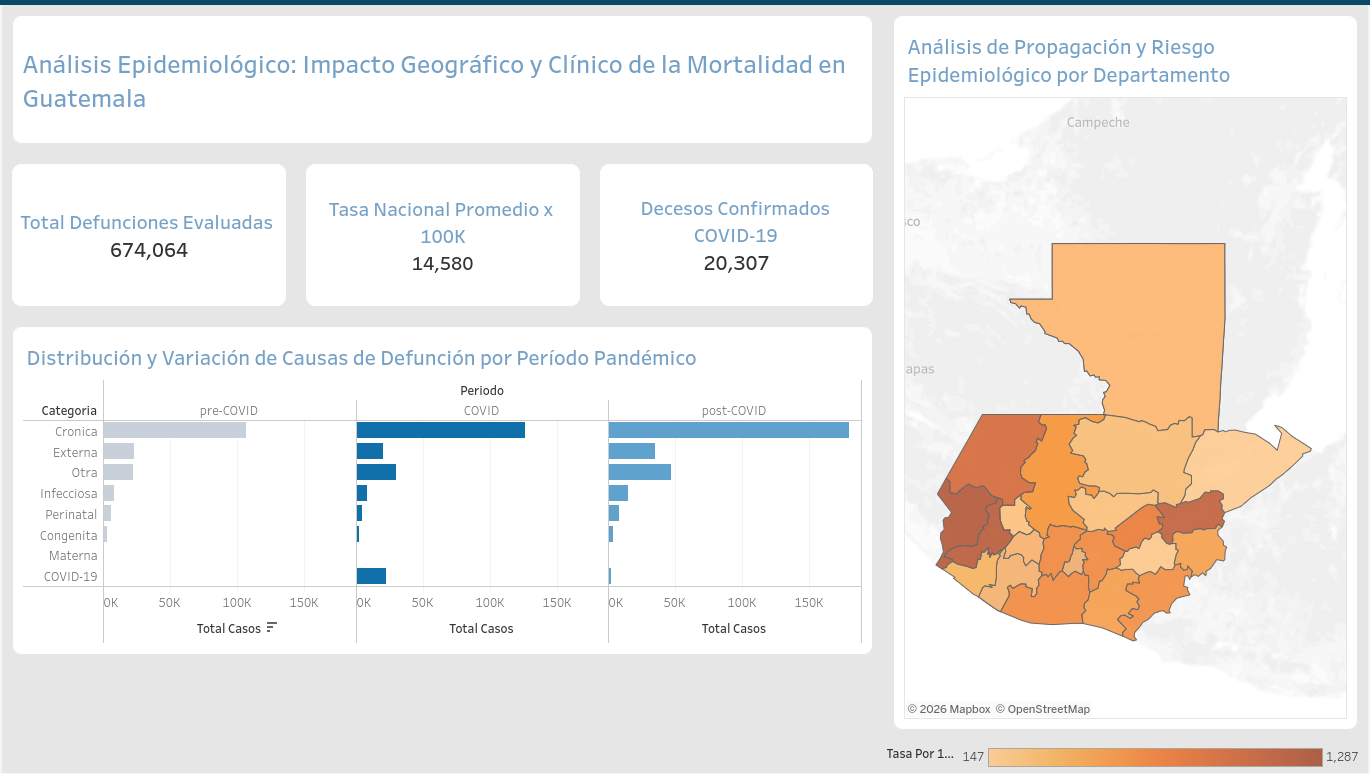

What the dashboard file says about the page in this screenshot:
{"tool":"tableau","page":{"name":"Dashboard Tableu","canvas":[1366,768],"ordinal":0},"visuals":[{"type":"text","box":[0,0,881,149]},{"type":"worksheet","title":"ACTO 3","mark":"Multipolygon","box":[881,0,485,735]},{"type":"worksheet","title":"KPI's 1","mark":"Text","box":[0,149,294,162]},{"type":"worksheet","title":"KPI's 2","mark":"Text","box":[294,149,294,162]},{"type":"worksheet","title":"KPI's 3","mark":"Text","box":[588,149,293,162]},{"type":"worksheet","title":"ACTO 4","mark":"Automatic","rows":["categoria"],"cols":["periodo","total_casos"],"box":[0,311,881,349]},{"type":"legend","title":"ACTO 3","param":"[federated.1xizh6w0qv76ap1a87cjk1rsxhqg].[sum:tasa_por_100k:qk]","box":[881,735,485,33]}]}

Visuals, with their boxes in screenshot pixels (x1, y1, x2, y2), scaled from the page's 1366x768 canvas onto the 1370x774 screenshot:
text: bbox=(0, 0, 884, 150)
"ACTO 3" worksheet (Multipolygon marks): bbox=(884, 0, 1369, 741)
"KPI's 1" worksheet (Text marks): bbox=(0, 150, 295, 313)
"KPI's 2" worksheet (Text marks): bbox=(295, 150, 590, 313)
"KPI's 3" worksheet (Text marks): bbox=(590, 150, 884, 313)
"ACTO 4" worksheet: bbox=(0, 313, 884, 665)
"ACTO 3" legend: bbox=(884, 741, 1369, 773)
